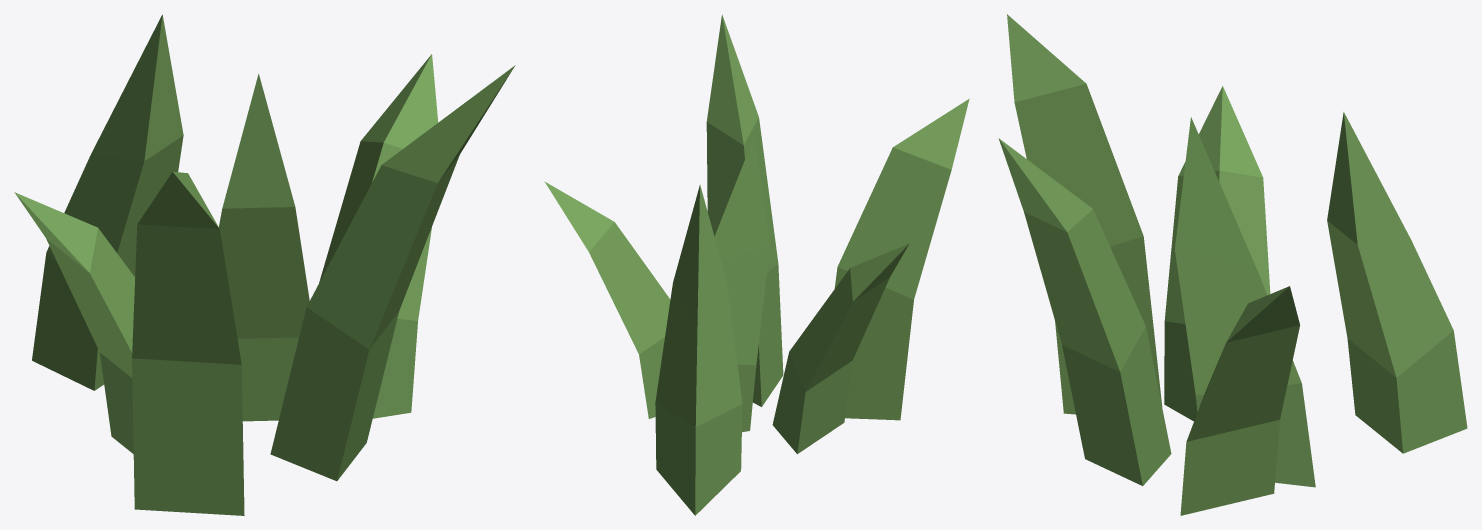
The model's file is grass.gltf.
3 renders of one model, left to right at view 1: azimuth 30°, elevation 25°; view 2: azimuth 150°, elevation 25°; view 3: azimuth 270°, elevation 25°, orthographic. The views are drawn at different scales.
Visible parts, largest first — view 1: GrassBunch4; view 2: GrassBunch4; view 3: GrassBunch4.
Boxes of the visible parts, left/top/right/bottom form: GrassBunch4: left=14, top=14, right=515, bottom=515; GrassBunch4: left=544, top=14, right=969, bottom=515; GrassBunch4: left=998, top=14, right=1467, bottom=515.
Bounding box in the file's own units: 0.7132 × 0.6461 × 0.7058.
1 material, 1 textured.
